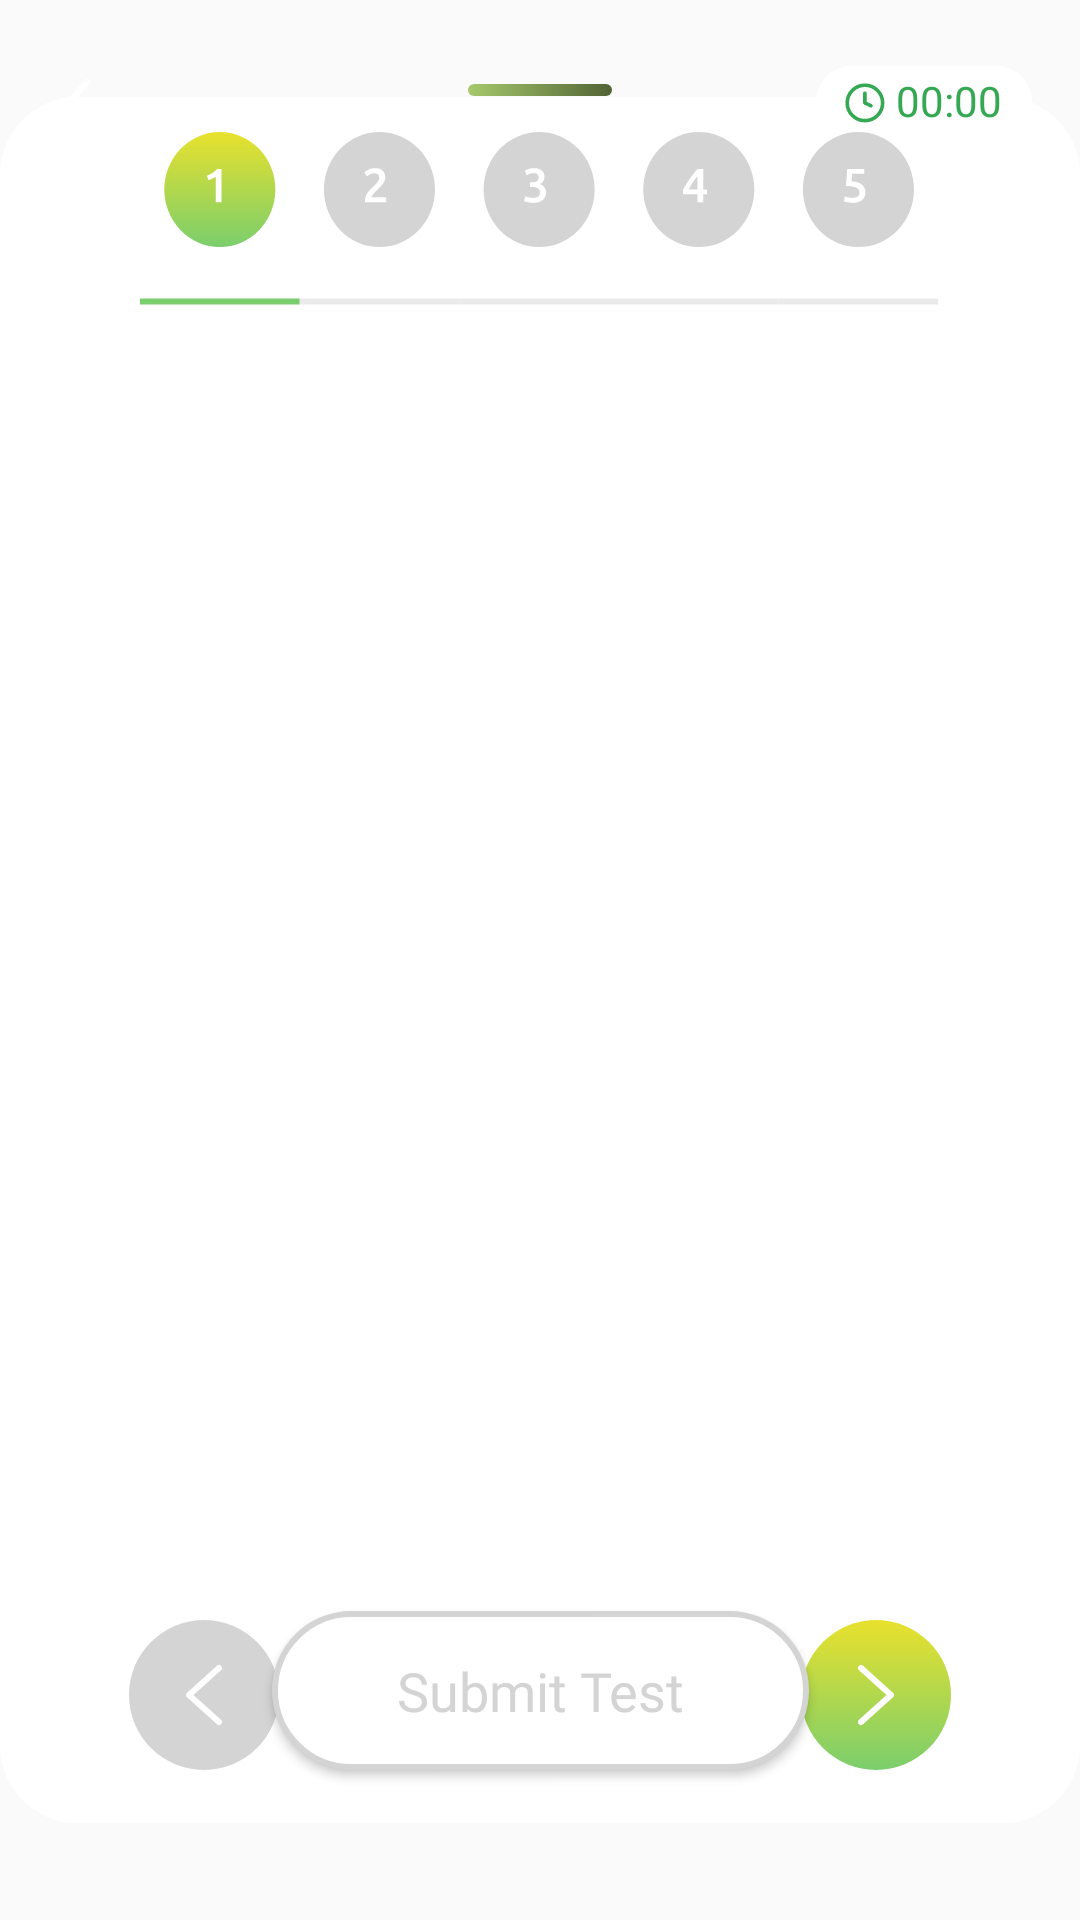

Icons on this 1080x1920 Android screen, each with the point to tap as [x,y]:
next: [876,1695]
previous: [204,1695]
